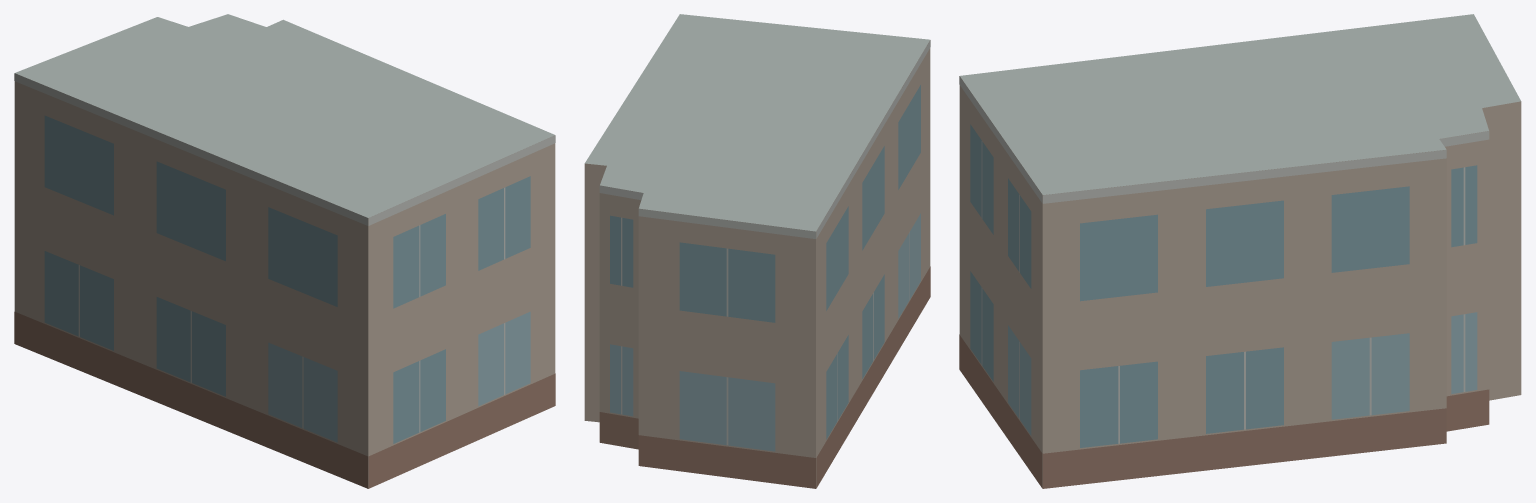
Rendered from survey-upis-32513485.glb.
3 renders of one model, left to right at view 1: azimuth 30°, elevation 25°; view 2: azimuth 150°, elevation 25°; view 3: azimuth 270°, elevation 25°, orthographic. The views are drawn at different scales.
Parts seen in each view (by area): view 1: survey-upis-32513485.tmp; view 2: survey-upis-32513485.tmp; view 3: survey-upis-32513485.tmp.
Part boxes in pixels (left/top/right/bottom): survey-upis-32513485.tmp: left=14, top=14, right=555, bottom=488; survey-upis-32513485.tmp: left=584, top=14, right=930, bottom=488; survey-upis-32513485.tmp: left=959, top=14, right=1521, bottom=488.
Bounding box in the file's own units: 10.85 × 8.2 × 14.22.
